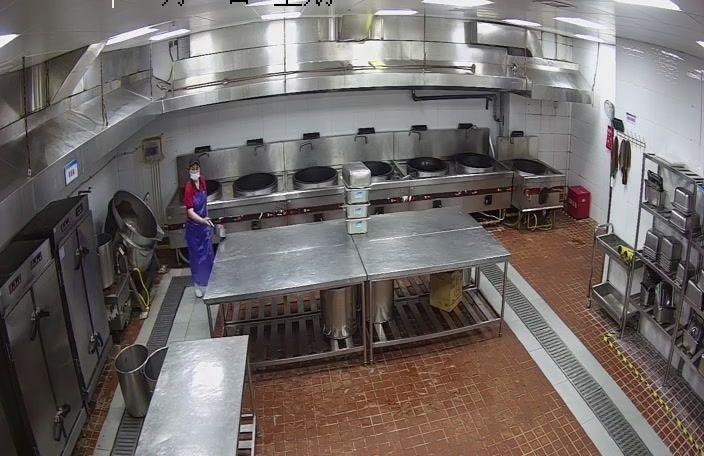mask: (188, 162, 202, 182)
